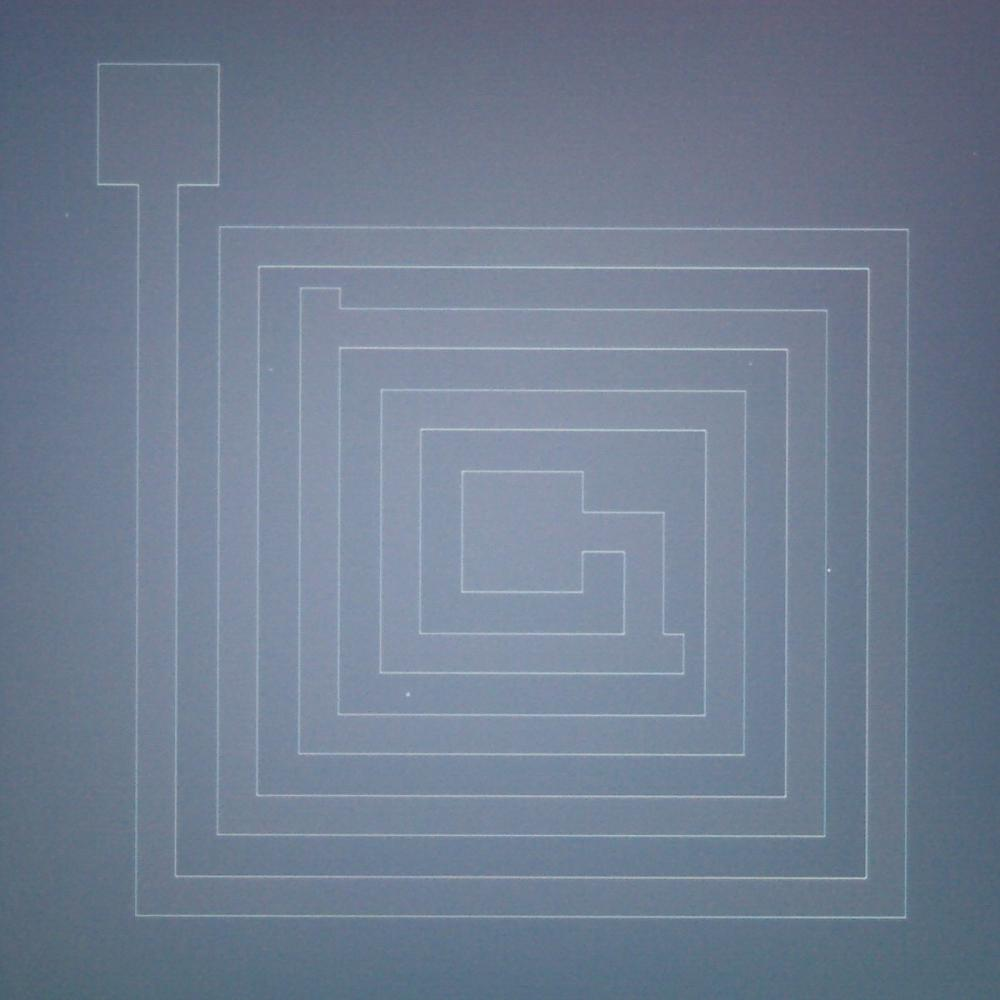dot: (827, 568, 831, 572), (406, 692, 410, 696)
